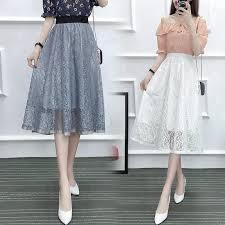skirt: (22, 17, 103, 136), (130, 52, 204, 156)
